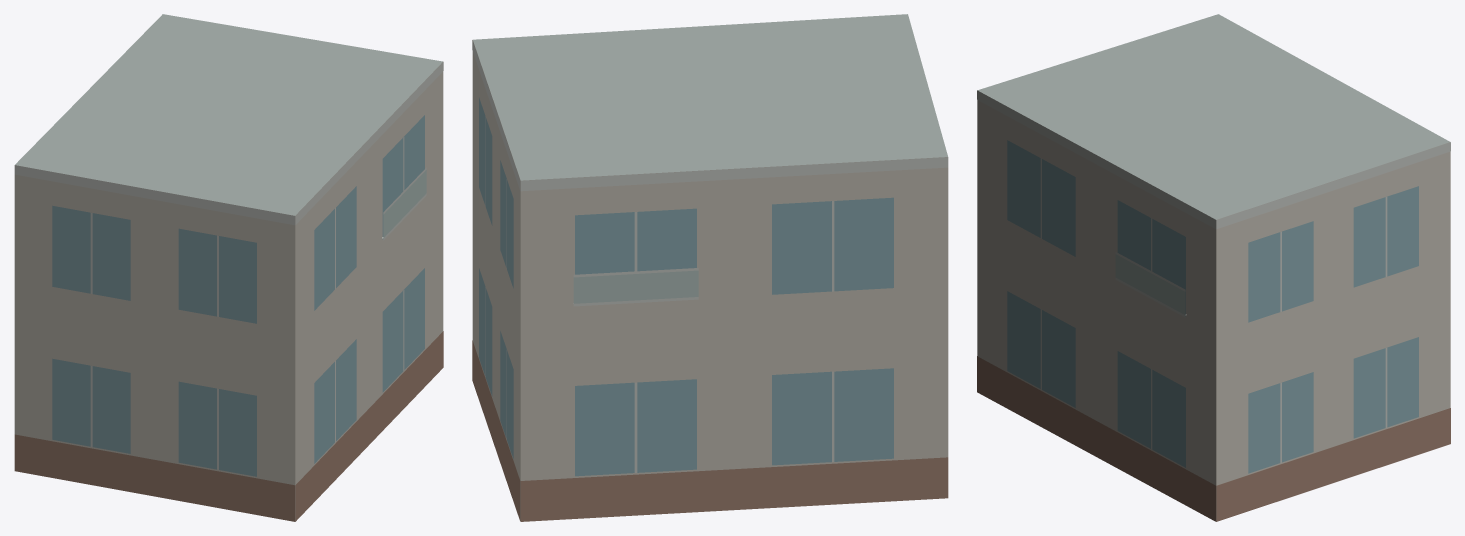
File: survey-upis-32611768.glb
3 renders of one model, left to right at view 1: azimuth 30°, elevation 25°; view 2: azimuth 150°, elevation 25°; view 3: azimuth 270°, elevation 25°, orthographic. The views are drawn at different scales.
Parts seen in each view (by area): view 1: survey-upis-32611768.tmp; view 2: survey-upis-32611768.tmp; view 3: survey-upis-32611768.tmp.
Boxes of the visible parts, x1=… form: survey-upis-32611768.tmp: x1=14, y1=14, x2=443, y2=521; survey-upis-32611768.tmp: x1=472, y1=14, x2=948, y2=521; survey-upis-32611768.tmp: x1=977, y1=14, x2=1450, y2=521.
Bounding box in the file's own units: 11.42 × 7.8 × 11.09.
